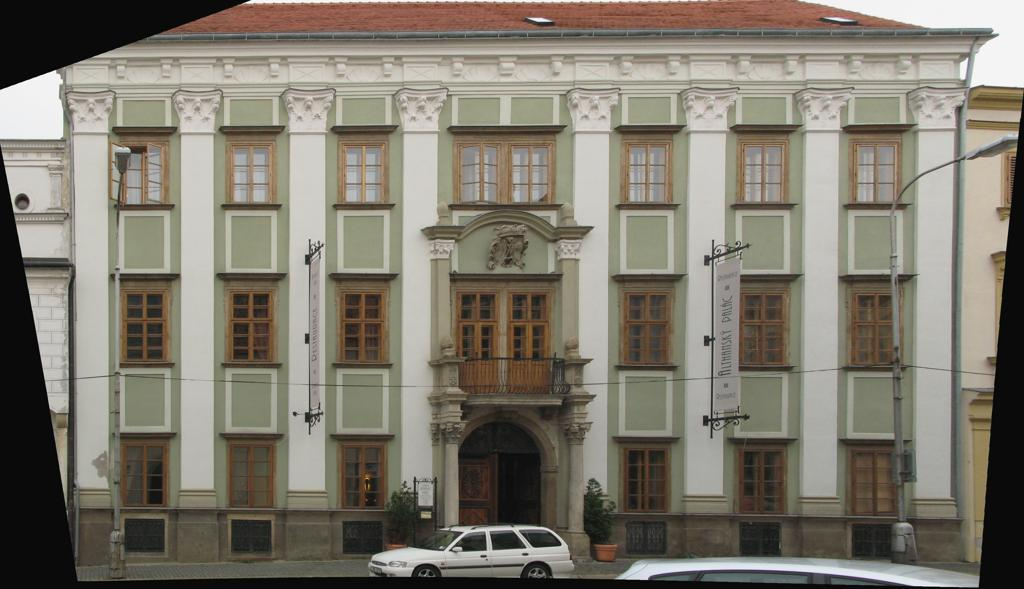window: (742, 291, 787, 364), (123, 289, 167, 363), (342, 290, 386, 364), (626, 291, 670, 365), (854, 292, 898, 366), (229, 290, 273, 363), (851, 450, 896, 516), (230, 443, 275, 508), (124, 442, 168, 508), (507, 291, 550, 358), (341, 445, 386, 509), (122, 143, 168, 204), (229, 144, 275, 205), (341, 142, 387, 203), (459, 143, 505, 204), (740, 142, 786, 203), (624, 449, 668, 512), (739, 451, 783, 514), (508, 143, 553, 204), (624, 142, 669, 203), (853, 142, 898, 203), (459, 291, 499, 358)
